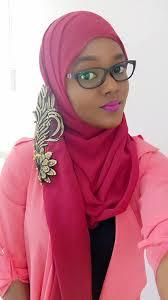No Mask: (63, 36, 146, 159)
